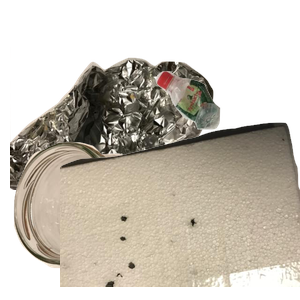glass: (11, 139, 179, 300)
metal: (10, 47, 216, 227)
plastic: (153, 68, 300, 190)
trash: (60, 120, 300, 300)
